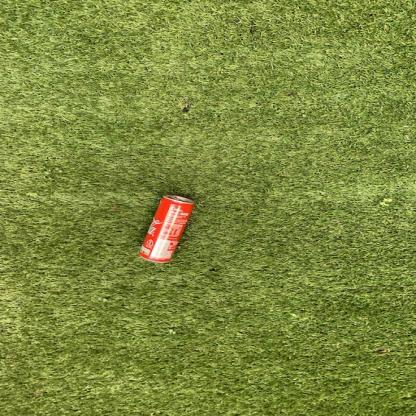trash: (135, 193, 198, 266)
